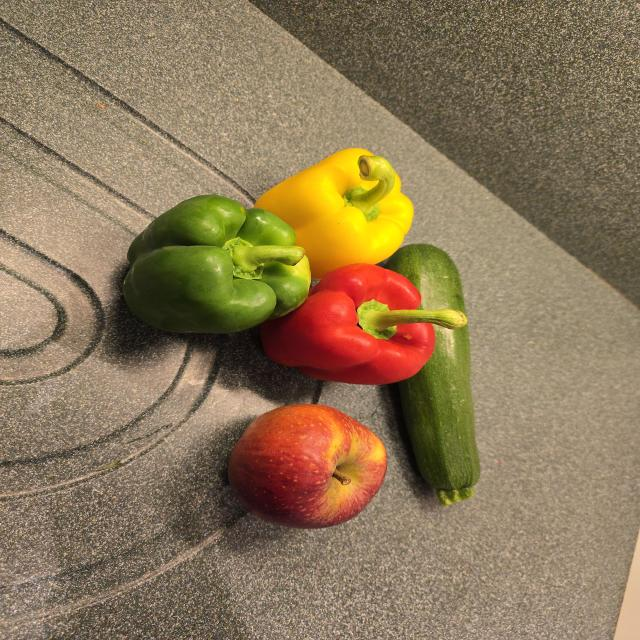Apple: (228, 404, 387, 528)
Bell Pepper: (124, 195, 311, 334), (261, 264, 466, 384), (254, 149, 413, 279)
Courgette: (399, 324, 480, 504), (384, 244, 465, 313)
